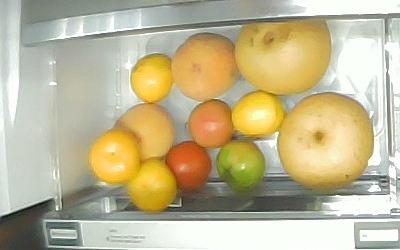peach: (171, 32, 240, 102), (113, 103, 174, 161)
pear: (277, 91, 374, 189), (233, 19, 331, 95)
tangerine: (87, 128, 141, 185), (231, 89, 285, 139), (127, 158, 176, 212), (129, 52, 172, 103)
tomato: (216, 138, 265, 194), (165, 141, 211, 194), (187, 99, 232, 149)
